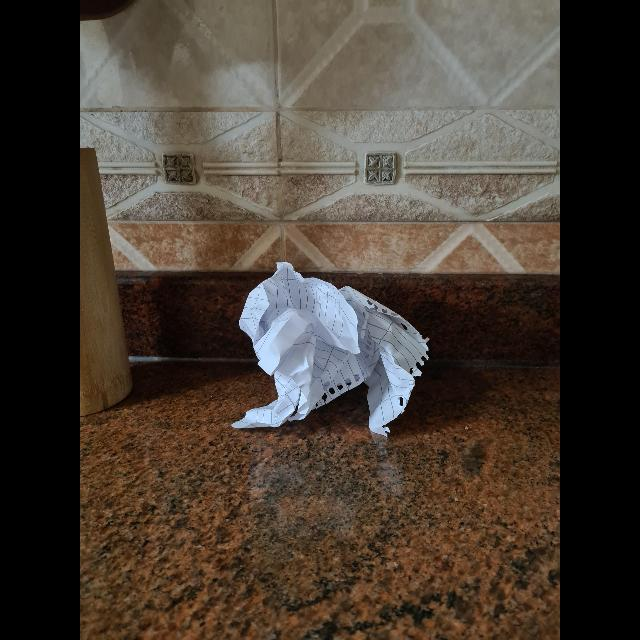scrap_paper: (235, 261, 441, 434)
